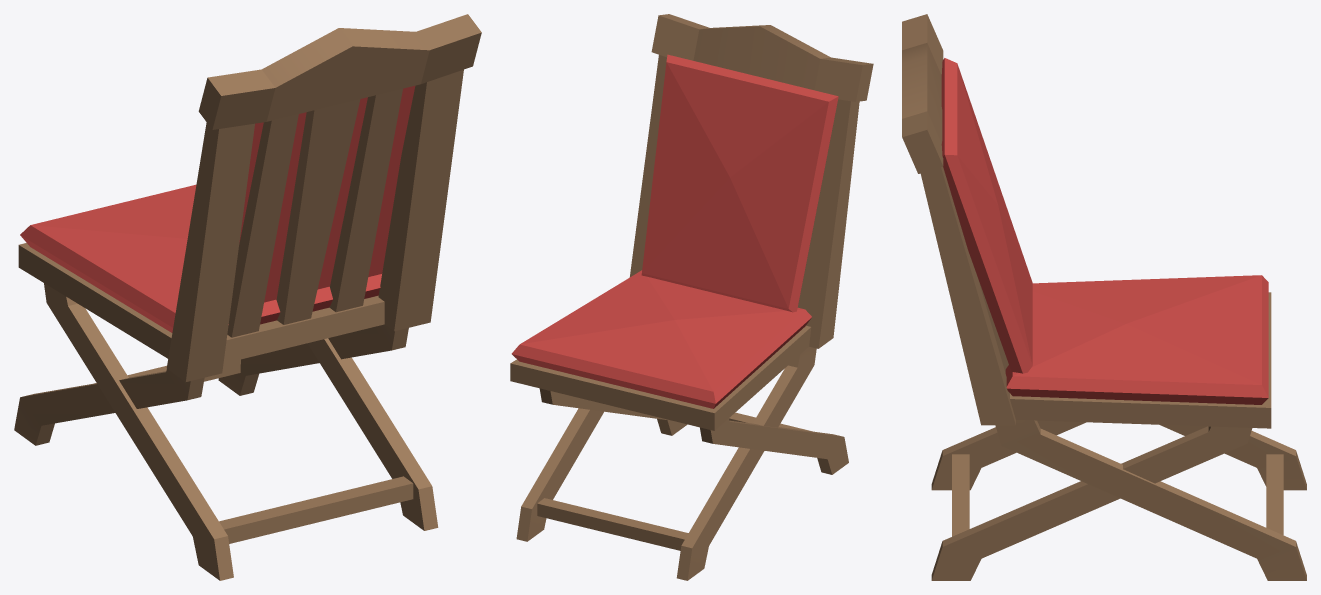
File: Chair_2.fbx
3 views of the same model, side by side, from view 1: azimuth 30°, elevation 25°; view 2: azimuth 150°, elevation 25°; view 3: azimuth 270°, elevation 25° (orthographic). The views are drawn at different scales.
Visible parts, largest first — view 1: polySurface2336; view 2: polySurface2336; view 3: polySurface2336.
Boxes of the visible parts, box(x1,y1,x2,y2) form: polySurface2336: box(14, 14, 481, 580); polySurface2336: box(510, 14, 873, 580); polySurface2336: box(902, 14, 1306, 580).
Bounding box in the file's own units: 0.602 × 1.16 × 0.8887.
Materials: 1 (1 with a texture image).
